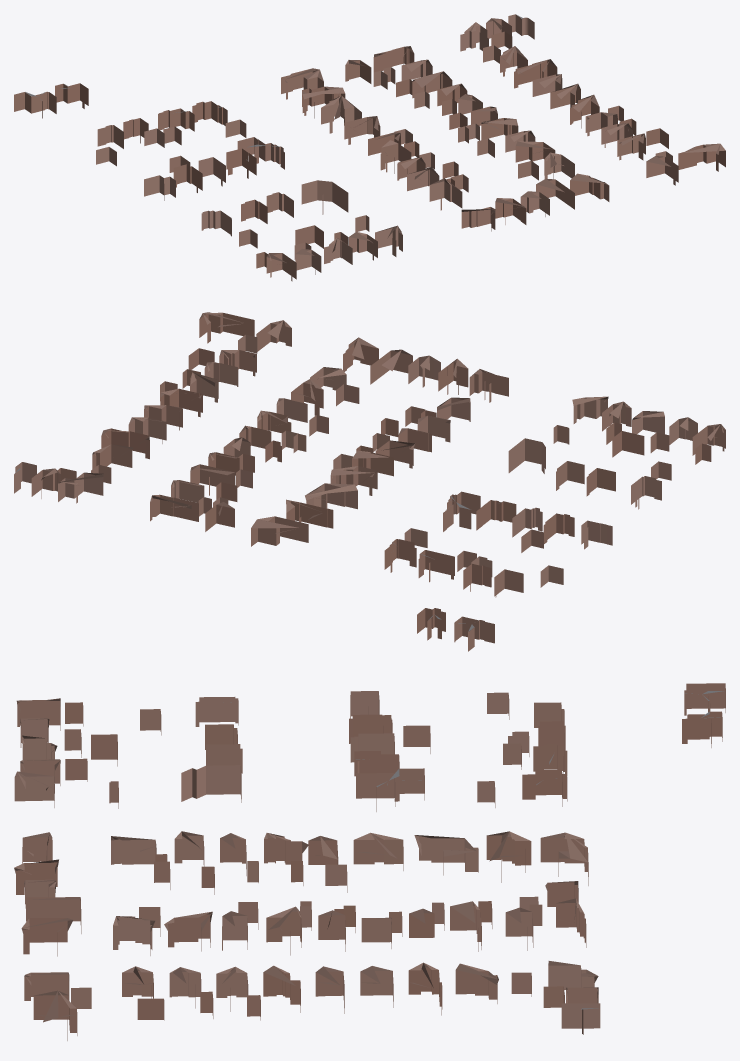
File: c_1644_17823_buildings_residential.glb
The picture shows the model from 3 angles, top to bottom: view 1: azimuth 30°, elevation 25°; view 2: azimuth 150°, elevation 25°; view 3: azimuth 270°, elevation 25°; orthographic projection. The views are drawn at different scales.
Visible parts, largest first — view 1: geometry_0; view 2: geometry_0; view 3: geometry_0.
Part boxes in pixels (x1,y1,x2,y2): geometry_0: (14, 14, 725, 281); geometry_0: (14, 312, 725, 651); geometry_0: (14, 683, 725, 1040).
Size of the model in its own units: 274 by 11.08 by 243.
